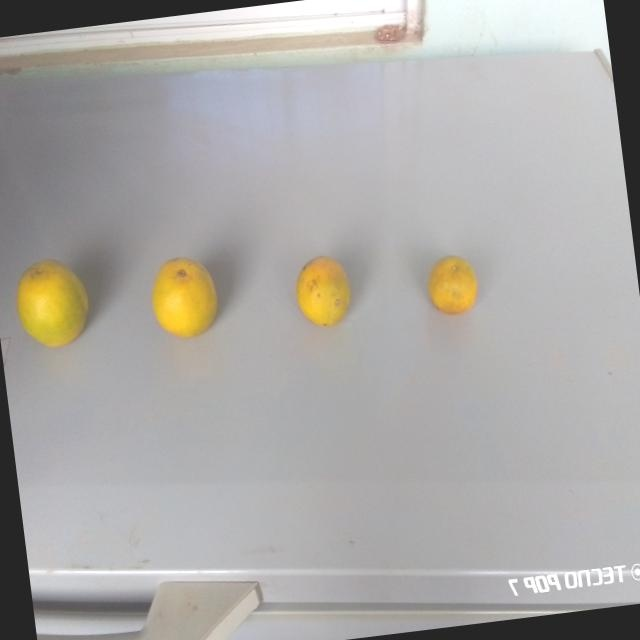agrume: (7, 244, 98, 359), (144, 246, 236, 352), (285, 249, 360, 334), (424, 249, 481, 325)
